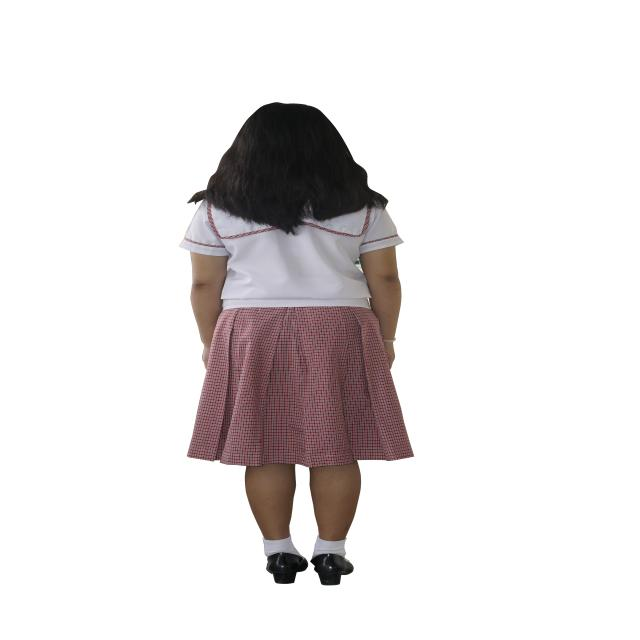pologirl: (180, 201, 403, 308)
shoes: (311, 553, 353, 586), (266, 552, 308, 584)
skirt: (188, 306, 413, 467)
